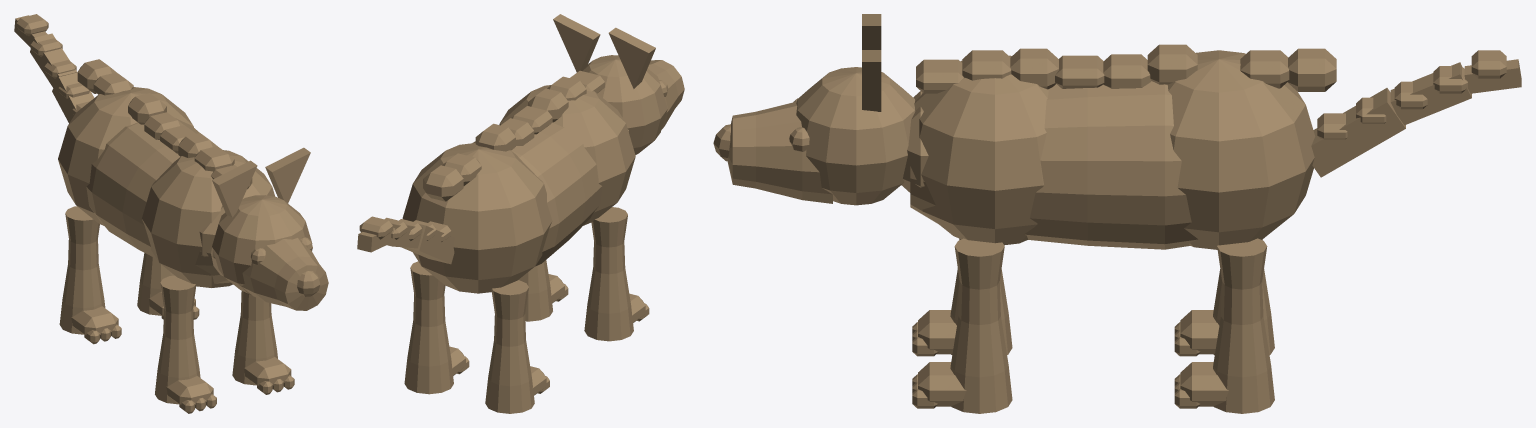
File: fantasy-mmo-city-and-townsfolk-city-wolf-571ed42b.glb
The picture shows the model from 3 angles, left to right: view 1: azimuth 30°, elevation 25°; view 2: azimuth 150°, elevation 25°; view 3: azimuth 270°, elevation 25°; orthographic projection. The views are drawn at different scales.
Visible parts, largest first — view 1: torso, head, paw-fl, paw-bl, paw-fr, tail, paw-br; view 2: torso, head, paw-bl, paw-fl, paw-br, tail, paw-fr; view 3: torso, head, paw-fr, paw-br, tail, paw-bl, paw-fl.
Boxes of the visible parts, x1,y1,x2,y2 form: torso: (58, 59, 274, 287); head: (212, 147, 328, 310); paw-fl: (155, 275, 216, 413); paw-bl: (59, 206, 121, 344); paw-fr: (232, 291, 294, 394); tail: (14, 14, 94, 123); paw-br: (137, 253, 199, 319); torso: (402, 70, 635, 293); head: (553, 14, 684, 154); paw-bl: (485, 280, 549, 413); paw-fl: (584, 207, 649, 341); paw-br: (404, 261, 469, 394); tail: (357, 216, 454, 264); paw-fr: (518, 260, 568, 321); torso: (901, 44, 1336, 249); head: (713, 14, 915, 205); paw-fr: (912, 238, 1012, 413); paw-br: (1174, 238, 1274, 413); tail: (1311, 50, 1521, 177); paw-bl: (1174, 239, 1274, 356); paw-fl: (912, 238, 1012, 356).
Bounding box in the file's own units: 0.52 × 0.99 × 2.09.
